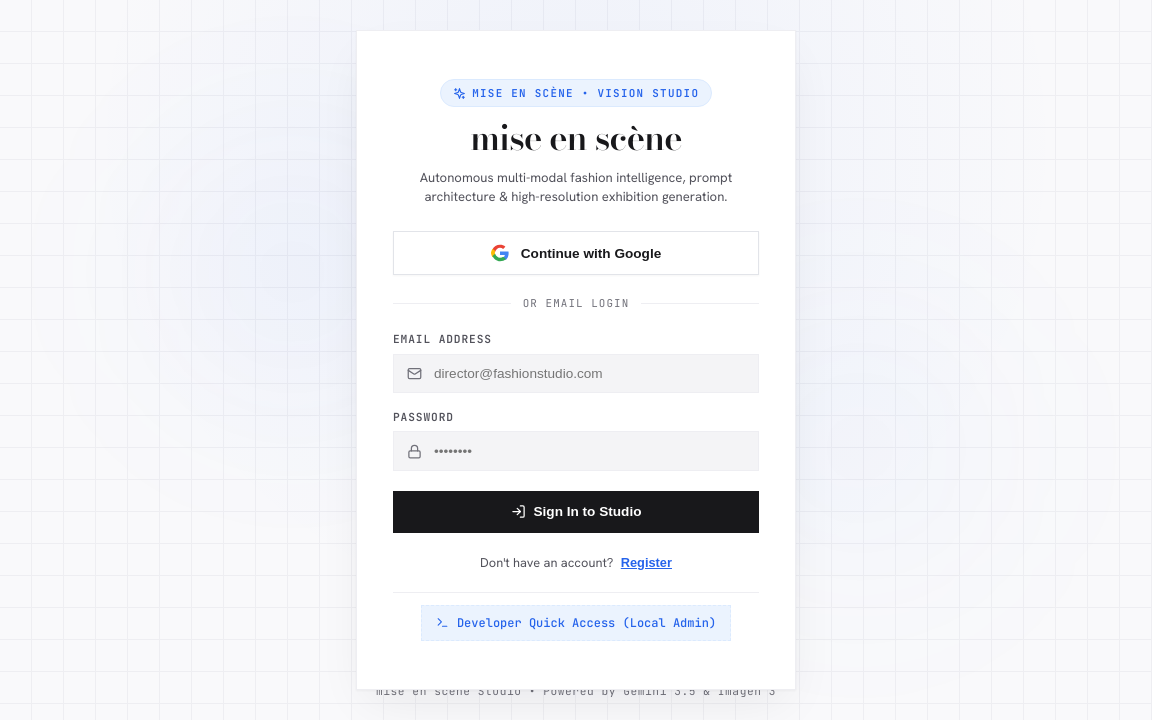
Test case: AuthPortal Component › toggles between Sign In and Create Account form
The image size is (1152, 720).
Click the button "Register" at (646, 562), box x1=621 y1=555 x2=672 y2=570
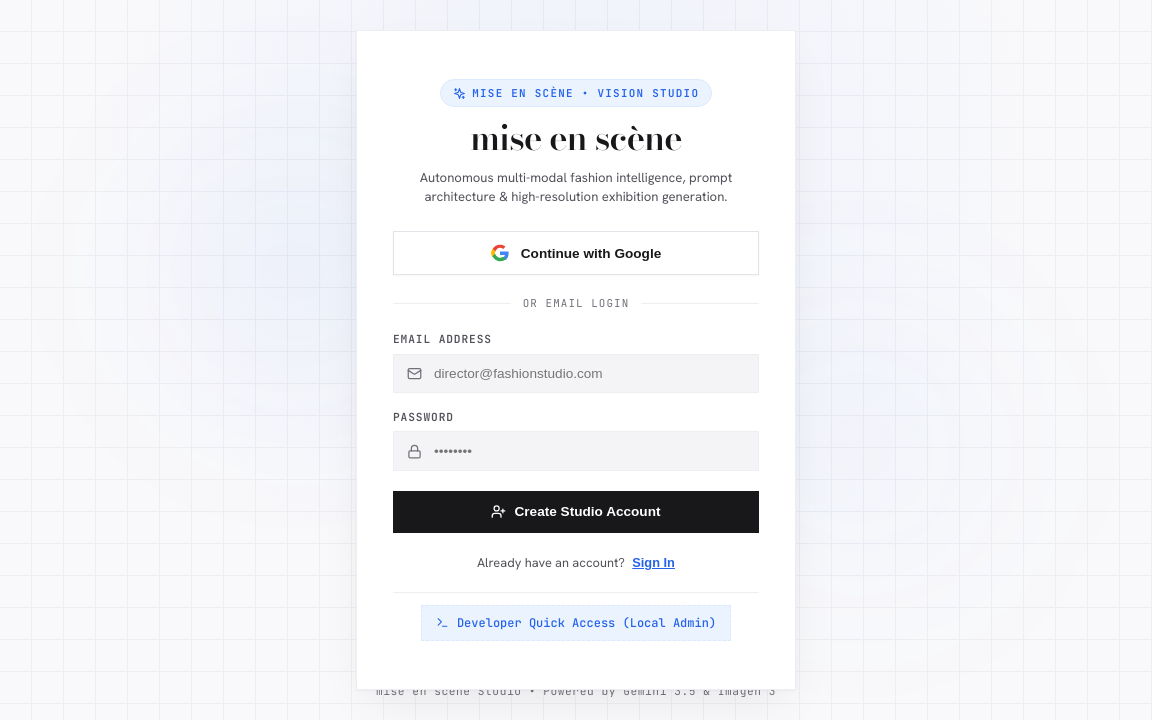
Check: the button "Create Studio Account" is shown, box x1=393 y1=491 x2=759 y2=533
Check: the button "Sign In" is shown, box x1=632 y1=555 x2=675 y2=570
